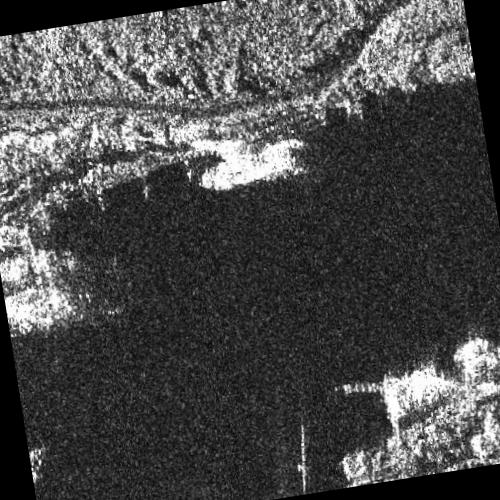ship: (198, 137, 302, 192), (454, 338, 490, 365)
